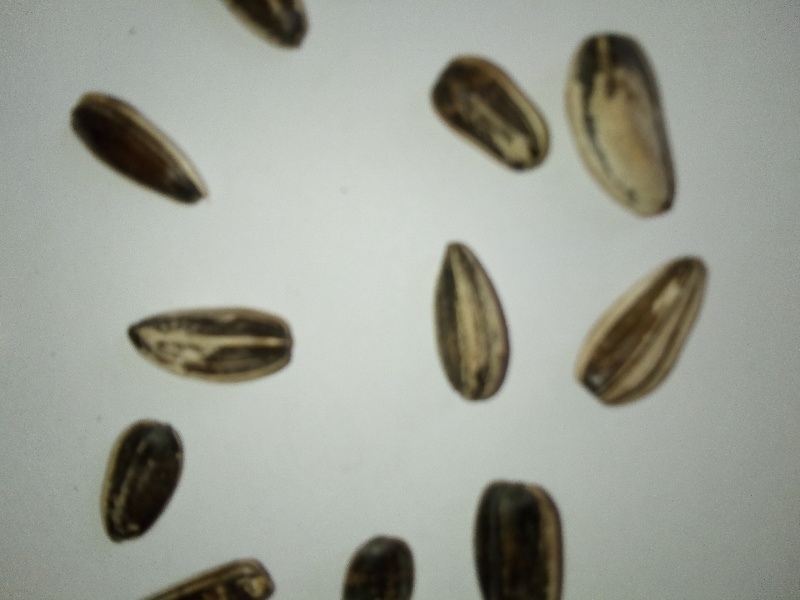girasol: (569, 249, 723, 420), (556, 26, 685, 226), (65, 86, 218, 210), (420, 42, 558, 179), (425, 231, 519, 409), (115, 300, 305, 387), (92, 410, 198, 550)
